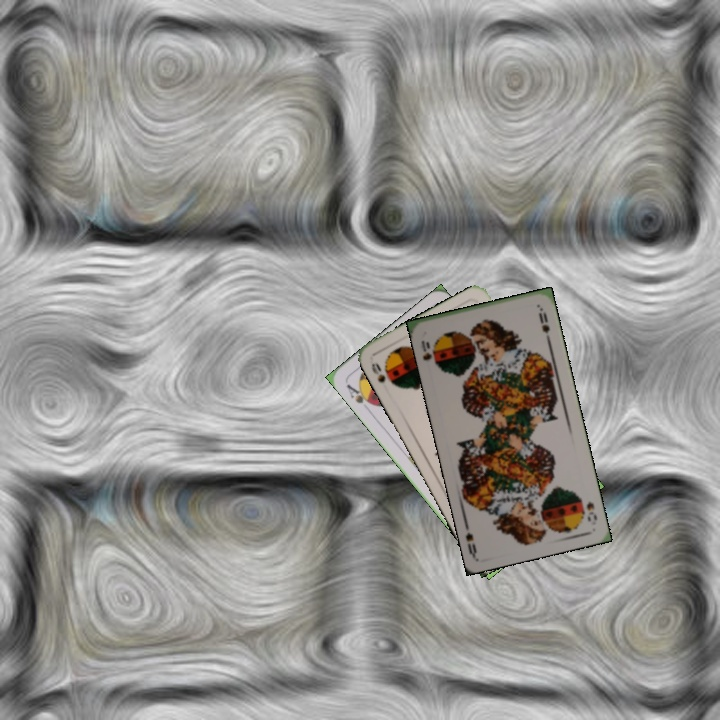SA: (342, 380, 377, 408)
SO: (367, 359, 388, 385), (582, 498, 600, 524), (417, 336, 434, 363)
